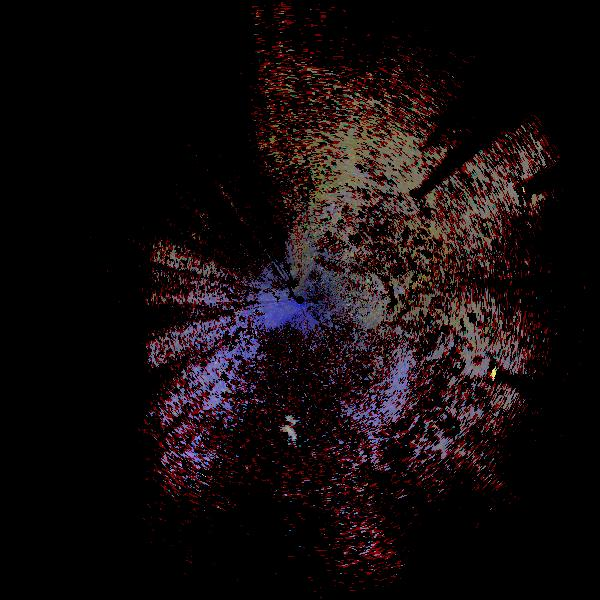roost: (281, 420, 296, 435)
